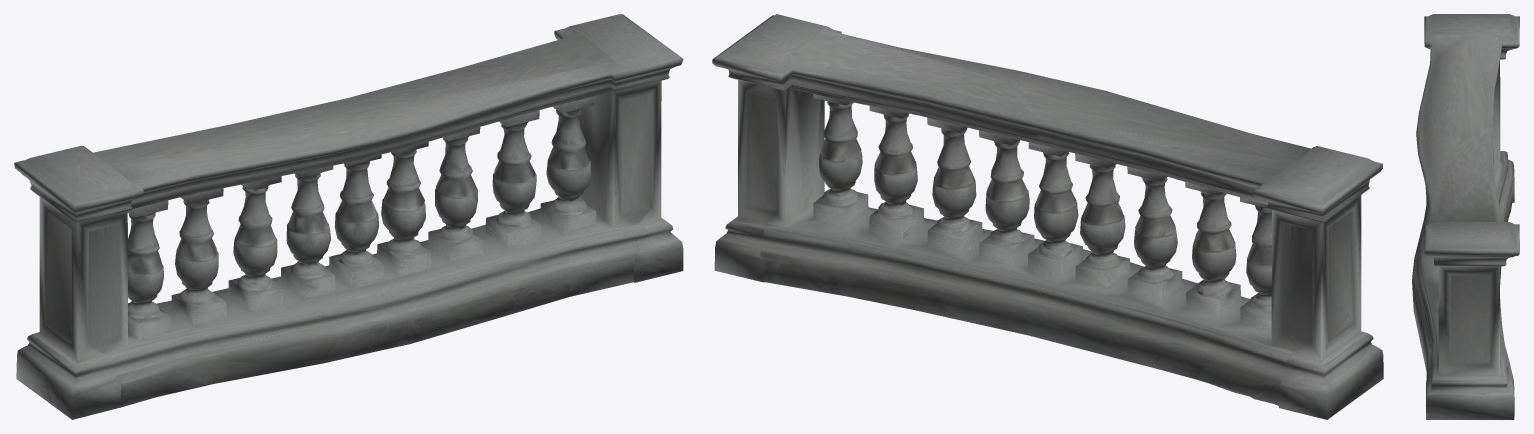
Rendered from balustrade.glb.
3 views of the same model, side by side, from view 1: azimuth 30°, elevation 25°; view 2: azimuth 150°, elevation 25°; view 3: azimuth 270°, elevation 25° (orthographic). The views are drawn at different scales.
Parts seen in each view (by area): view 1: body; view 2: body; view 3: body.
Part boxes in pixels (<box>): body: <box>14,14,683,419</box>; body: <box>712,14,1383,419</box>; body: <box>1412,14,1519,419</box>.
Size of the model in its own units: 2.88 by 0.998 by 0.5581.
1 material, 1 textured.
